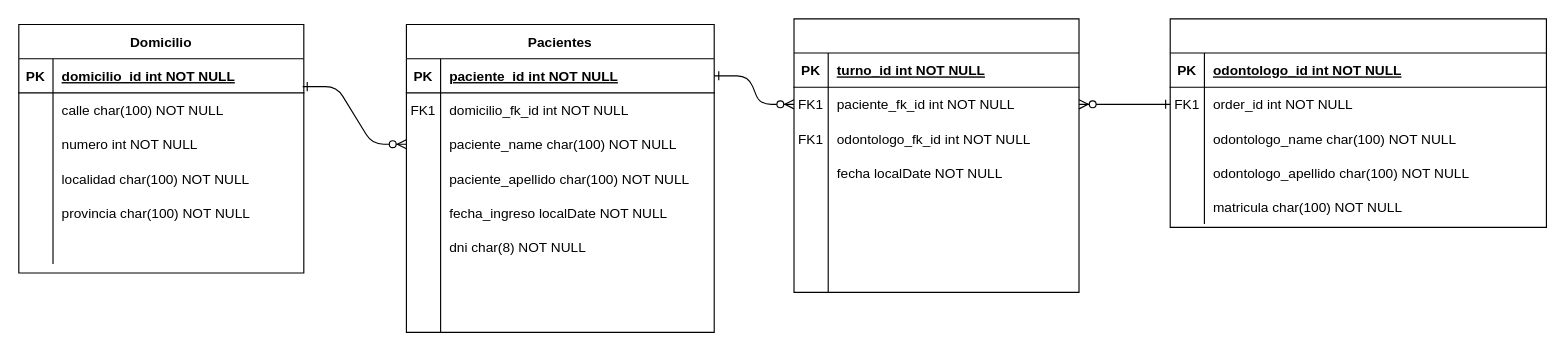
Image size: 1565x351. Some labels were removed from this diagram. Each missing label, with the box of its shape:
Odontologos: (1169, 18, 1546, 227)
Turnos: (793, 18, 1079, 292)
